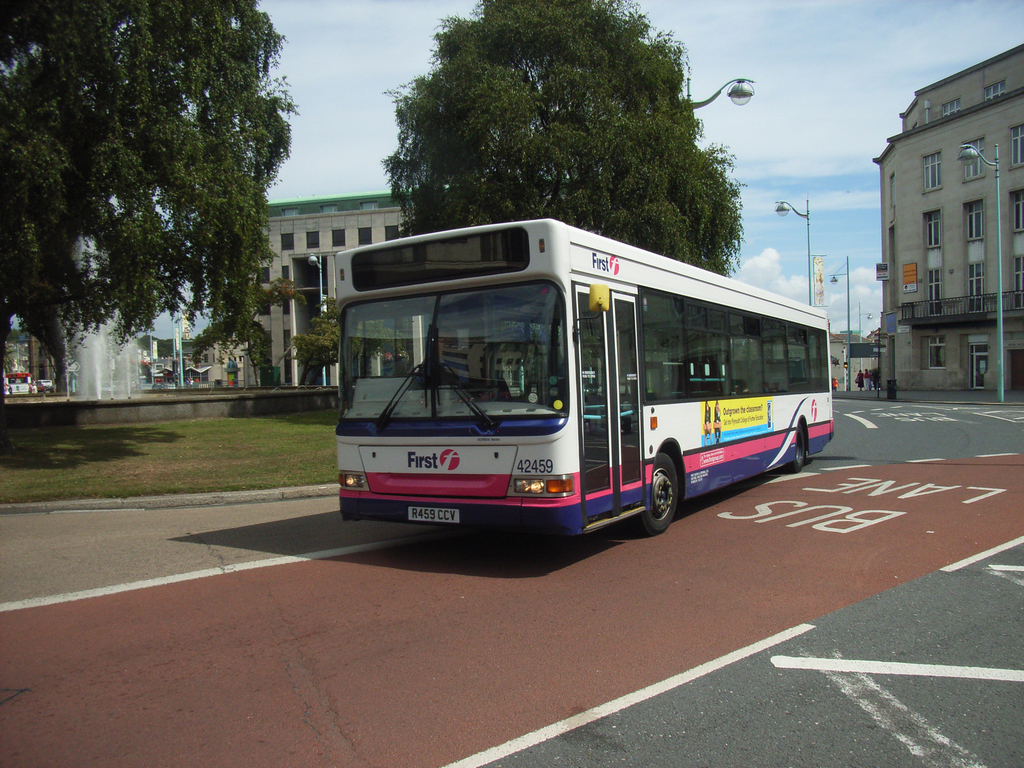Bus: (336, 220, 838, 552), (3, 371, 33, 396)
